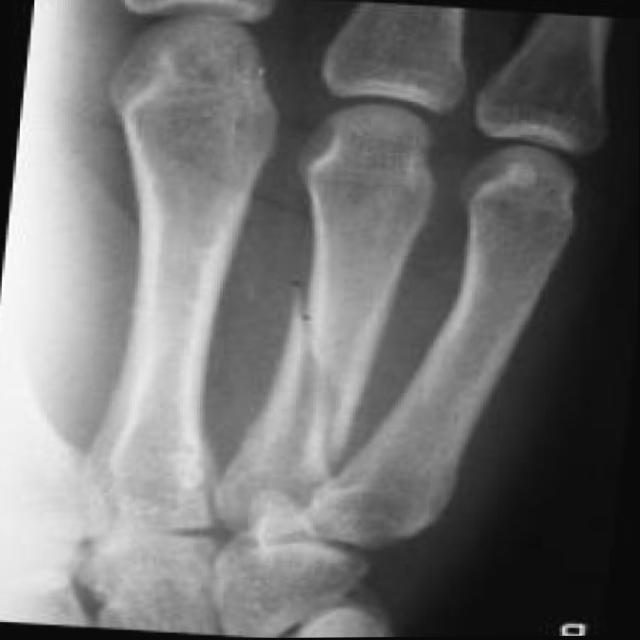Oblique Displaced: (242, 260, 388, 485)
